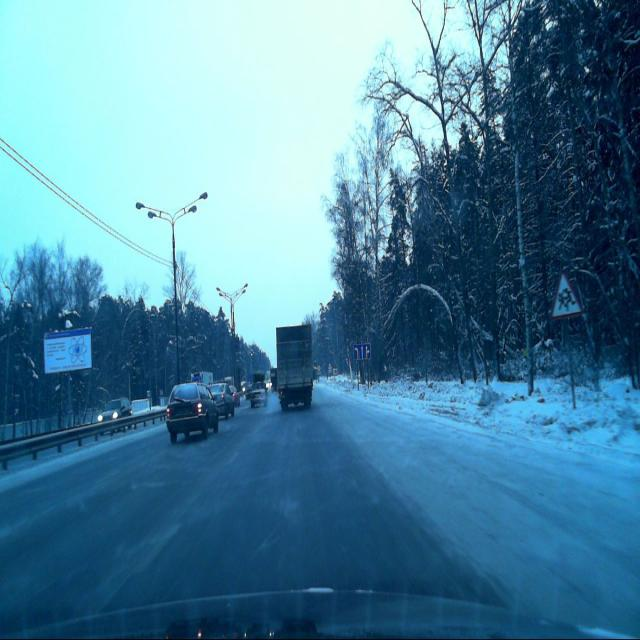object: (564, 317, 577, 409)
road sign: (552, 268, 582, 320), (352, 342, 372, 360)
